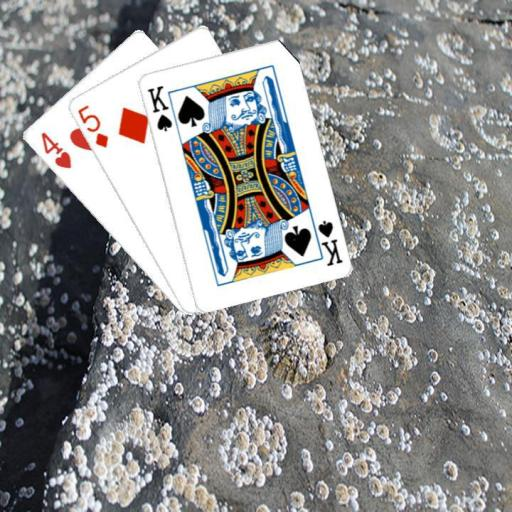4H: (37, 129, 73, 170)
5D: (74, 102, 109, 149)
KS: (308, 215, 343, 267), (144, 82, 174, 133)
